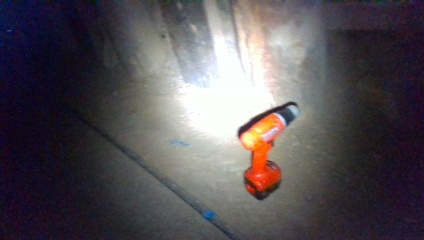drill: (238, 101, 301, 199)
